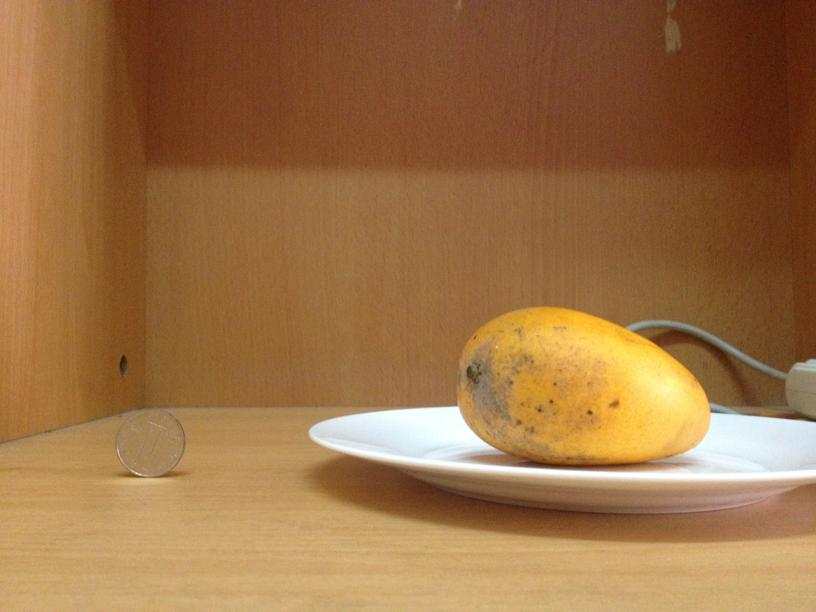coin: (117, 408, 186, 479)
mango: (455, 308, 710, 463)
